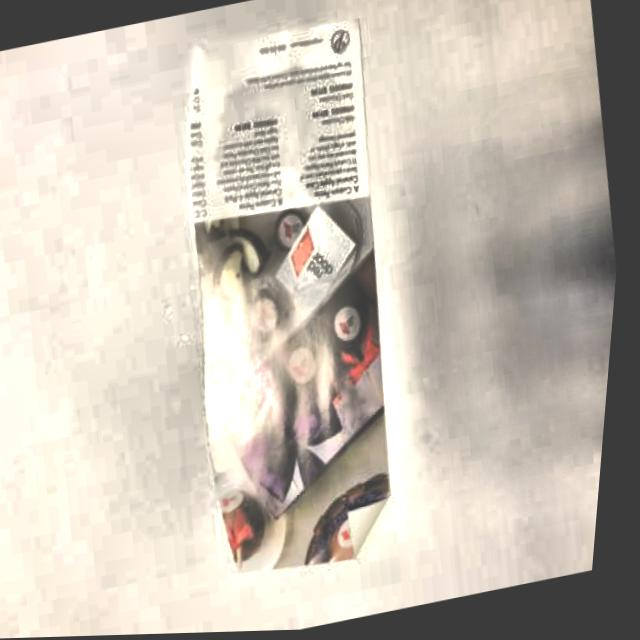Paper: (126, 2, 459, 606)
